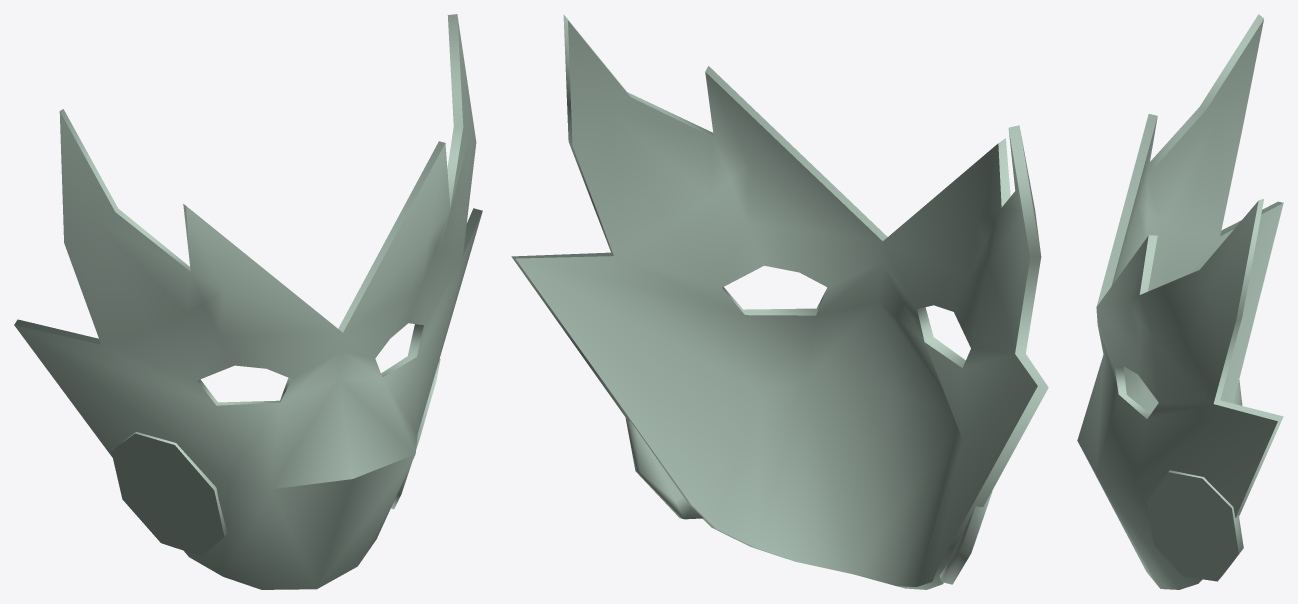
The model's file is MaskSingle.fbx.
The picture shows the model from 3 angles, left to right: view 1: azimuth 30°, elevation 25°; view 2: azimuth 150°, elevation 25°; view 3: azimuth 270°, elevation 25°; orthographic projection. The views are drawn at different scales.
Parts seen in each view (by area): view 1: Mask; view 2: Mask; view 3: Mask.
Part boxes in pixels (<box>): Mask: <box>14,14,482,589</box>; Mask: <box>511,14,1048,589</box>; Mask: <box>1077,14,1283,589</box>.
Bounding box in the file's own units: 110 × 109 × 43.84.
